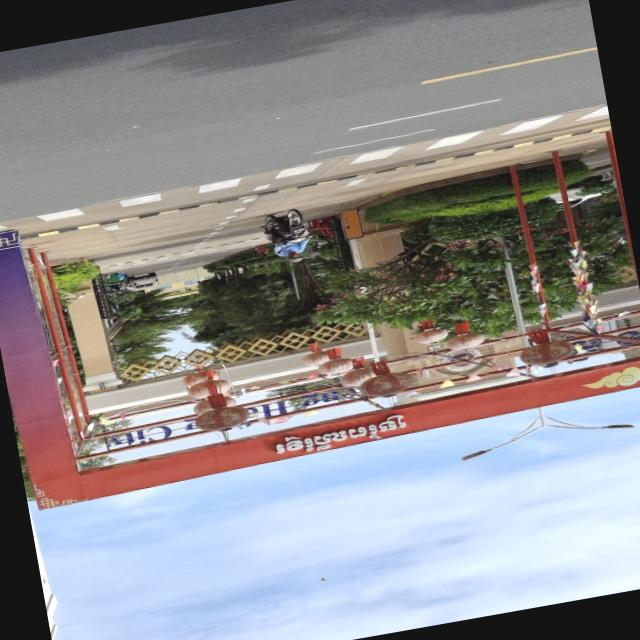Yolov11_80vkh: (250, 402, 425, 472)
